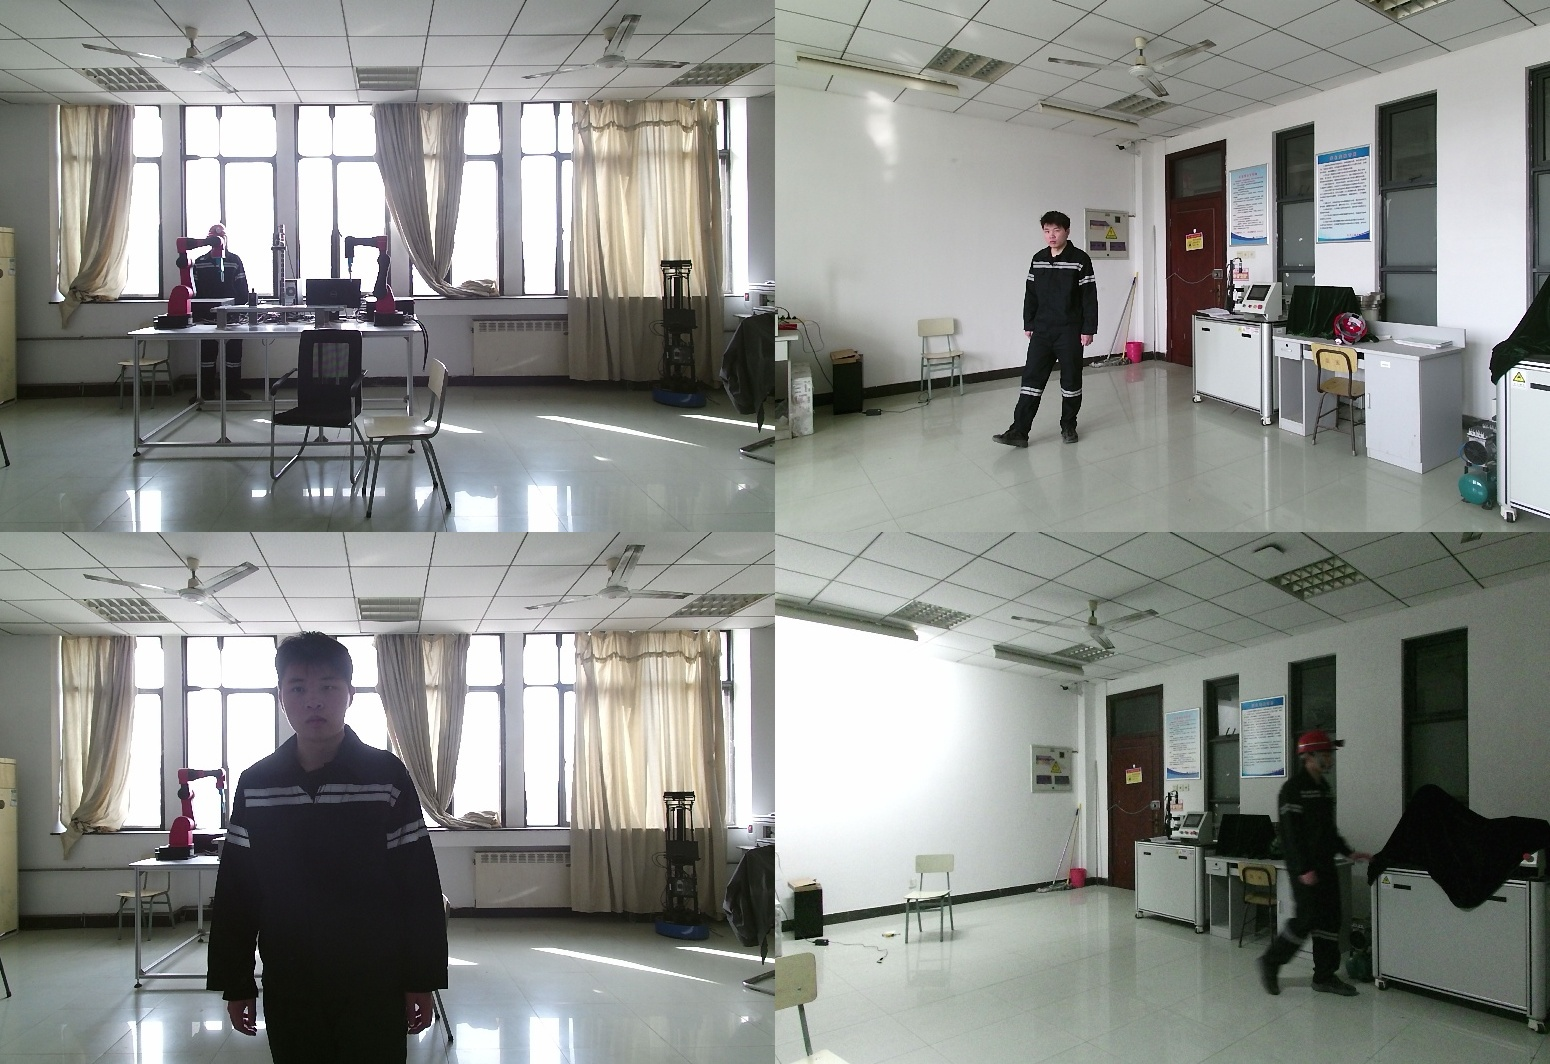person: (220, 632, 459, 1064), (1253, 732, 1363, 995), (994, 213, 1108, 445), (193, 224, 249, 404)
